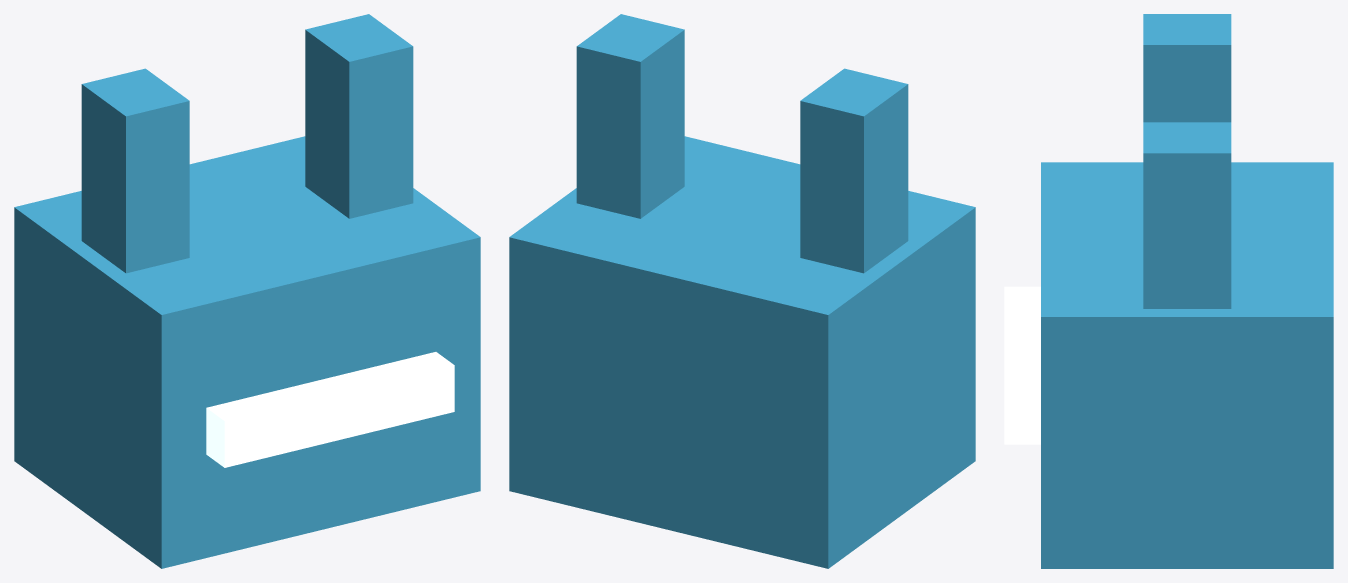
File: test-head.glb
3 views of the same model, side by side, from view 1: azimuth 30°, elevation 25°; view 2: azimuth 150°, elevation 25°; view 3: azimuth 270°, elevation 25° (orthographic).
Size of the model in its own units: 1 by 1.23 by 0.9.
